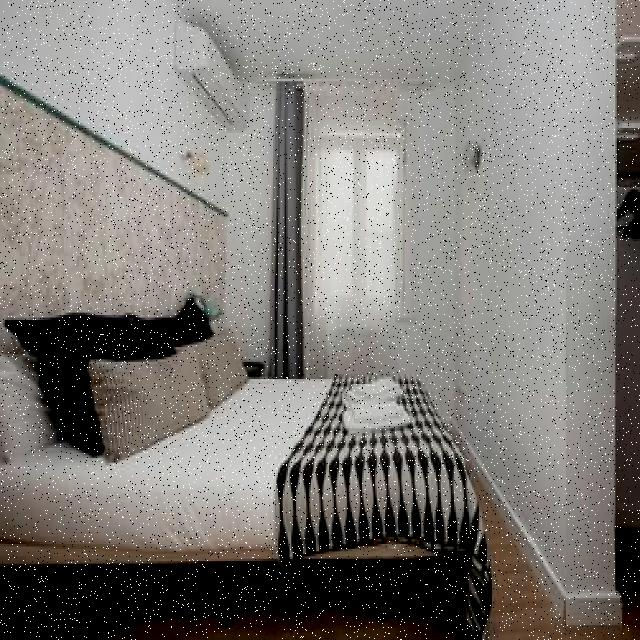bed: (0, 296, 494, 638)
